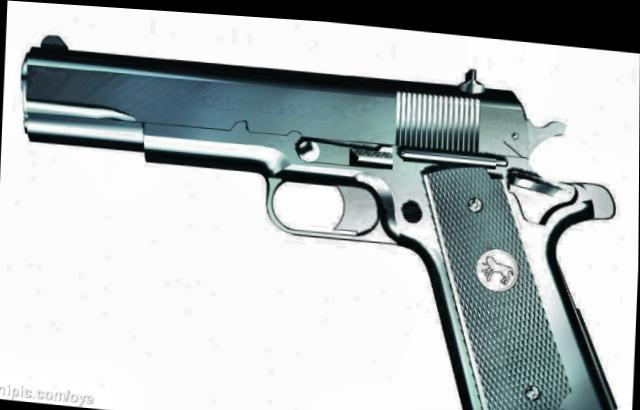pistol: (9, 21, 631, 410)
